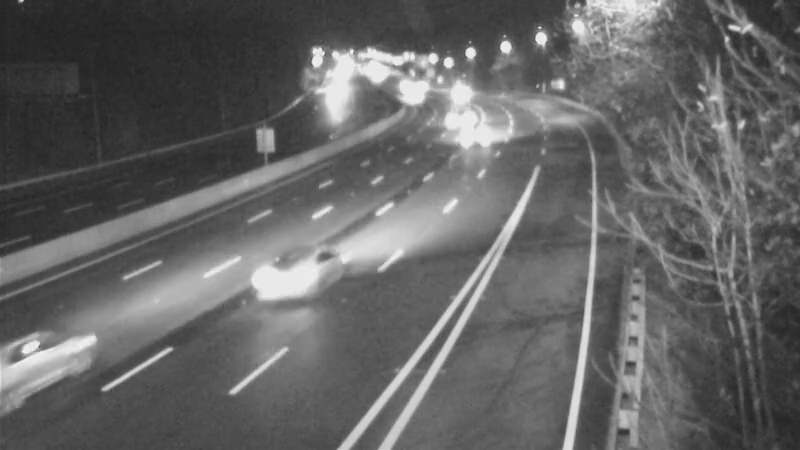vehicle: (1, 308, 102, 418), (242, 233, 322, 313), (431, 67, 481, 117), (388, 72, 438, 122), (429, 90, 479, 140), (449, 98, 499, 148)
